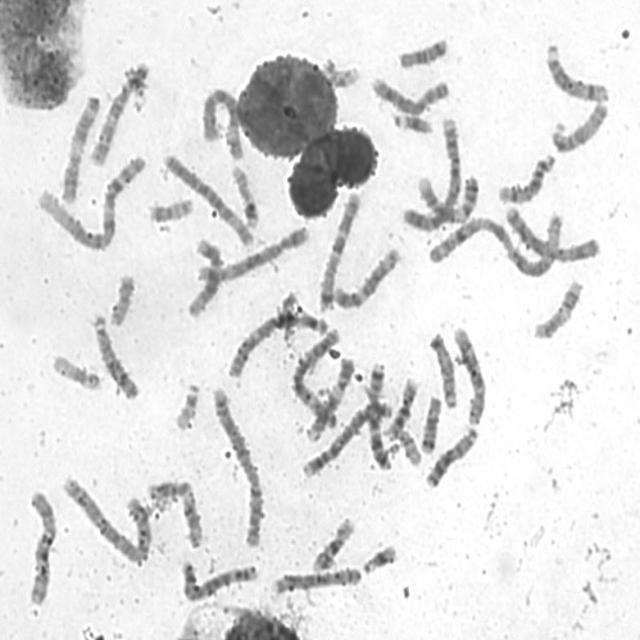A1: (33, 148, 147, 252), (422, 208, 564, 279)
A2: (208, 382, 266, 550), (57, 471, 154, 566)
A3: (223, 308, 330, 380), (291, 326, 341, 429)
B4: (398, 111, 464, 232), (299, 396, 395, 479)
B5: (195, 221, 311, 284), (176, 555, 260, 603)
C10: (86, 58, 151, 168), (450, 324, 487, 426)
C11: (56, 90, 102, 206), (142, 474, 205, 550)
C12: (329, 242, 404, 311), (182, 233, 224, 320)
C6: (159, 148, 256, 248), (198, 81, 247, 162)
C7: (314, 187, 363, 314), (362, 356, 395, 473)
C8: (367, 70, 452, 116), (267, 562, 363, 596)
C9: (302, 352, 356, 443), (412, 170, 480, 227)
D13: (88, 309, 141, 402), (420, 422, 481, 491)
D14: (542, 36, 611, 105), (494, 148, 557, 206)
D15: (547, 97, 610, 155), (425, 328, 460, 410)
E16: (308, 511, 357, 574), (380, 373, 421, 442)
E17: (529, 274, 586, 342), (228, 162, 260, 232)
E18: (395, 33, 449, 70), (416, 391, 444, 455)
F19: (48, 348, 103, 393), (322, 58, 361, 91)
F20: (105, 269, 137, 328), (145, 192, 196, 223)
G21: (358, 539, 399, 577), (390, 109, 434, 135)
G22: (170, 375, 202, 432), (394, 424, 423, 468)
X: (502, 201, 602, 265), (26, 488, 58, 607)
